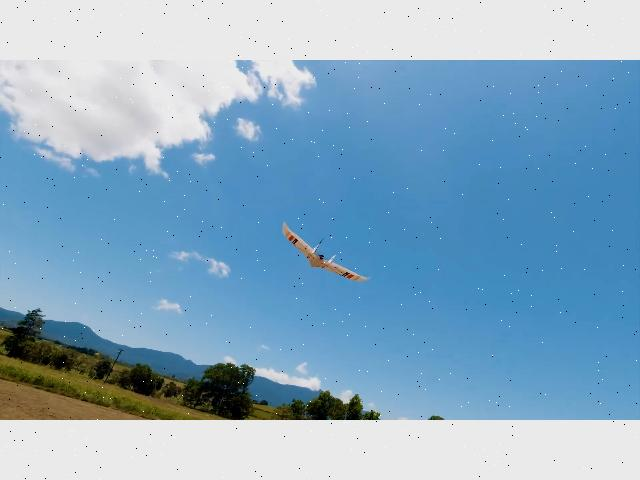Anti-Drone: (246, 205, 382, 299)
